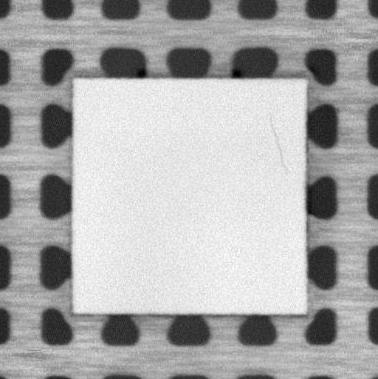DIE_CRACK: (267, 113, 291, 174)
